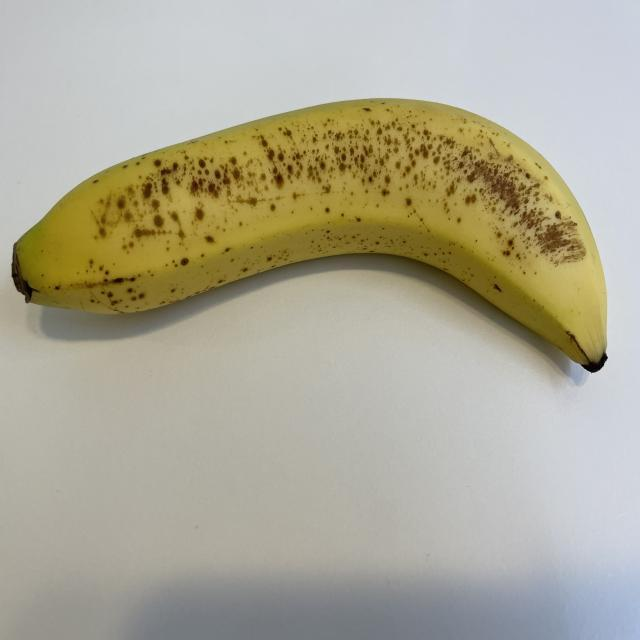Banana: (9, 97, 614, 377)
